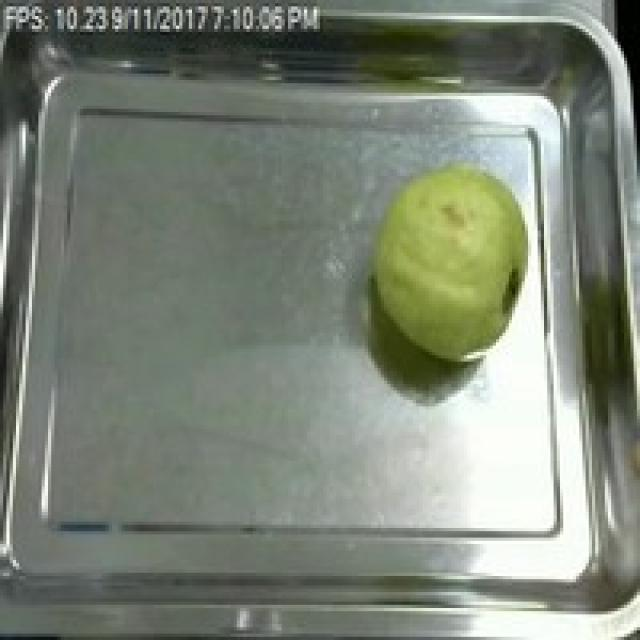Fruit: (358, 154, 548, 371)
